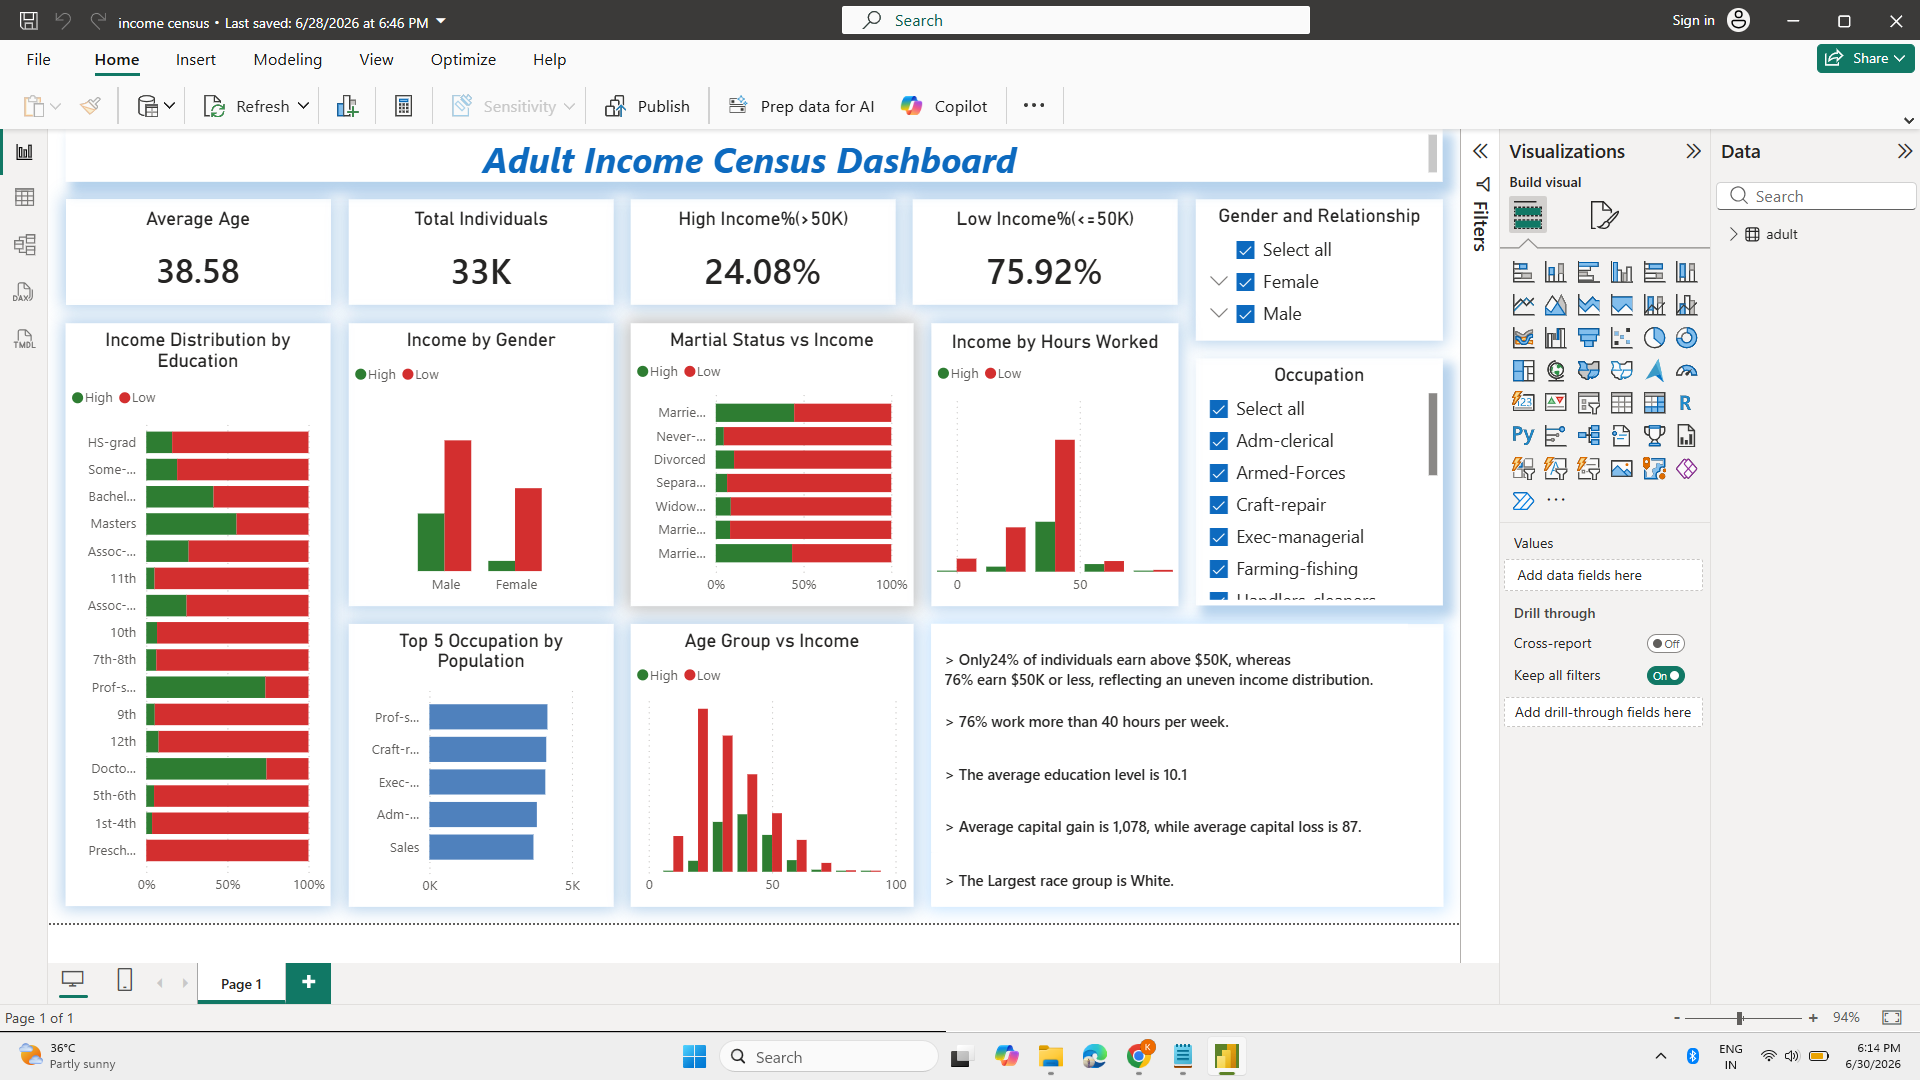

What the dashboard file says about the page in this screenshot:
{"tool":"powerbi","page":{"name":"Page 1","canvas":[1280,720],"ordinal":0},"visuals":[{"type":"shape","box":[800,448,464,256],"z":0},{"type":"slicer","title":"Occupation","fields":{"Values":["adult.Occupation"]},"box":[1040,208,224,224],"z":1000},{"type":"cardVisual","title":"Average Age","fields":{"Data":["adult.Avg age"]},"box":[16,64,240,96],"z":2000},{"type":"cardVisual","title":"Total Individuals","fields":{"Data":["adult.total population"]},"box":[272,64,240,96],"z":3000},{"type":"cardVisual","title":"High Income%(>50K)","fields":{"Data":["adult.high income%"]},"box":[528,64,240,96],"z":4000},{"type":"cardVisual","title":"Low Income%(<=50K)","fields":{"Data":["adult.low income%"]},"box":[784,64,240,96],"z":5000},{"type":"slicer","title":"Gender and Relationship","fields":{"Values":["adult.Sex","adult.Relationship"]},"box":[1040,64,224,128],"z":6000},{"type":"clusteredColumnChart","title":"Income by Gender","fields":{"Category":["adult.Sex"],"Y":["CountNonNull(adult.Native-country)"],"Series":["adult.Income-category"]},"box":[272,176,240,256],"z":7000},{"type":"barChart","title":"Top 5 Occupation by Population","fields":{"Category":["adult.Occupation"],"Y":["adult.total population"]},"box":[272,448,240,256],"z":8000},{"type":"hundredPercentStackedBarChart","title":"Income Distribution by Education","fields":{"Y":["adult.total population"],"Category":["adult.Education"],"Series":["adult.Income-category"]},"box":[16,176,240,528],"z":9000},{"type":"hundredPercentStackedBarChart","title":"Martial Status vs Income","fields":{"Category":["adult.Marital-status"],"Y":["adult.total population"],"Series":["adult.Income-category"]},"box":[528,176,256,256],"z":10000},{"type":"clusteredColumnChart","title":"Age Group vs Income","fields":{"Y":["adult.total population"],"Series":["adult.Income-category"],"Category":["adult.Age (bins)"]},"box":[528,448,256,256],"z":11000},{"type":"clusteredColumnChart","title":"Income by Hours Worked","fields":{"Series":["adult.Income-category"],"Y":["adult.total population"],"Category":["adult.Hours-per-week (bins)"]},"box":[800,176,224,256],"z":12000},{"type":"cardVisual","title":"     Income Insight","fields":{"Data":["adult.income insight"]},"box":[800,448,432,80],"z":13000},{"type":"cardVisual","fields":{"Data":["adult.hours insight"]},"box":[800,512,432,48],"z":14000},{"type":"cardVisual","fields":{"Data":["adult.average edu year insights"]},"box":[800,560,352,48],"z":15000},{"type":"cardVisual","fields":{"Data":["adult.capital gain and loss"]},"box":[800,608,432,48],"z":16000},{"type":"cardVisual","fields":{"Data":["adult.race insight"]},"box":[800,656,304,48],"z":17000},{"type":"shape","box":[16,0,1248,48],"z":18000},{"type":"textbox","box":[16,0,1248,48],"z":19000}]}

Visuals, with their boxes on the page's 1280x720 design canvas (x1, y1, x2, y2). These are canvas units, not pixel positions in the 1920x1080 screenshot, which may show the page scaled, cropped or inside an application window:
shape: l=800, t=448, r=1264, b=704
"Occupation" slicer: l=1040, t=208, r=1264, b=432
"Average Age" cardVisual: l=16, t=64, r=256, b=160
"Total Individuals" cardVisual: l=272, t=64, r=512, b=160
"High Income%(>50K)" cardVisual: l=528, t=64, r=768, b=160
"Low Income%(<=50K)" cardVisual: l=784, t=64, r=1024, b=160
"Gender and Relationship" slicer: l=1040, t=64, r=1264, b=192
"Income by Gender" clusteredColumnChart: l=272, t=176, r=512, b=432
"Top 5 Occupation by Population" barChart: l=272, t=448, r=512, b=704
"Income Distribution by Education" hundredPercentStackedBarChart: l=16, t=176, r=256, b=704
"Martial Status vs Income" hundredPercentStackedBarChart: l=528, t=176, r=784, b=432
"Age Group vs Income" clusteredColumnChart: l=528, t=448, r=784, b=704
"Income by Hours Worked" clusteredColumnChart: l=800, t=176, r=1024, b=432
"     Income Insight" cardVisual: l=800, t=448, r=1232, b=528
cardVisual - adult.hours insight: l=800, t=512, r=1232, b=560
cardVisual - adult.average edu year insights: l=800, t=560, r=1152, b=608
cardVisual - adult.capital gain and loss: l=800, t=608, r=1232, b=656
cardVisual - adult.race insight: l=800, t=656, r=1104, b=704
shape: l=16, t=0, r=1264, b=48
textbox: l=16, t=0, r=1264, b=48
